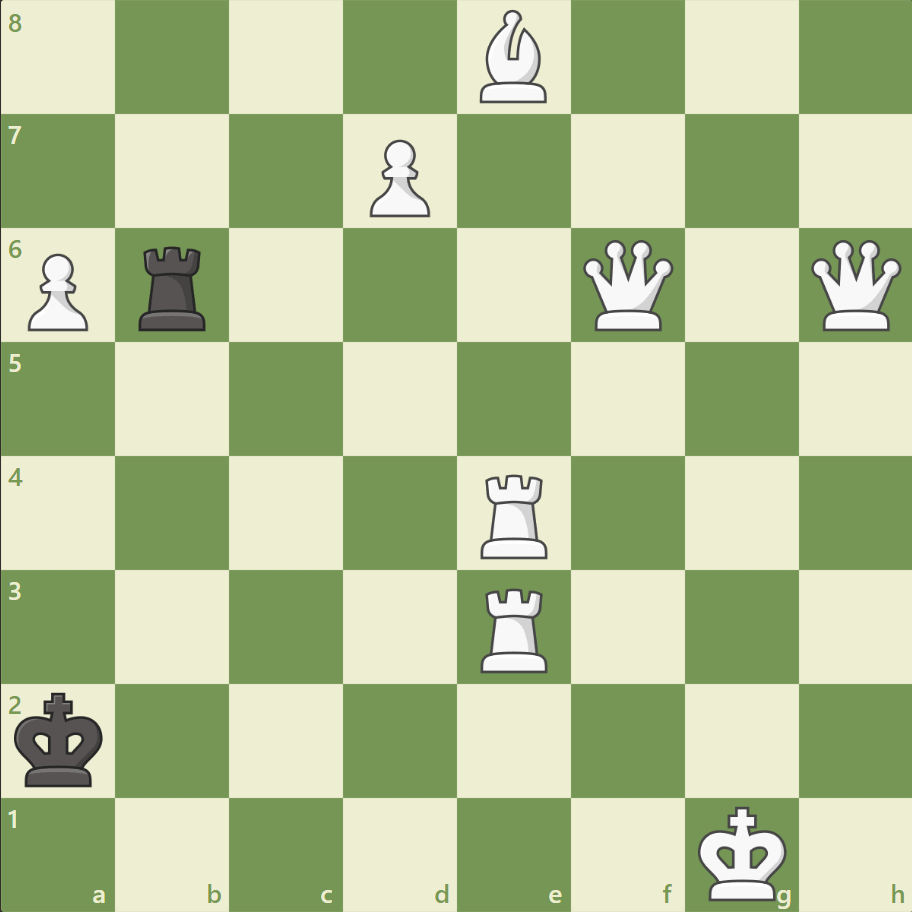B: (471, 6, 555, 109)
K: (692, 798, 792, 906)
P: (20, 246, 95, 337), (361, 132, 435, 223)
Q: (578, 236, 677, 335), (805, 236, 904, 335)
R: (473, 466, 556, 563), (473, 579, 556, 676)
k: (11, 685, 111, 793)
r: (133, 239, 215, 336)
